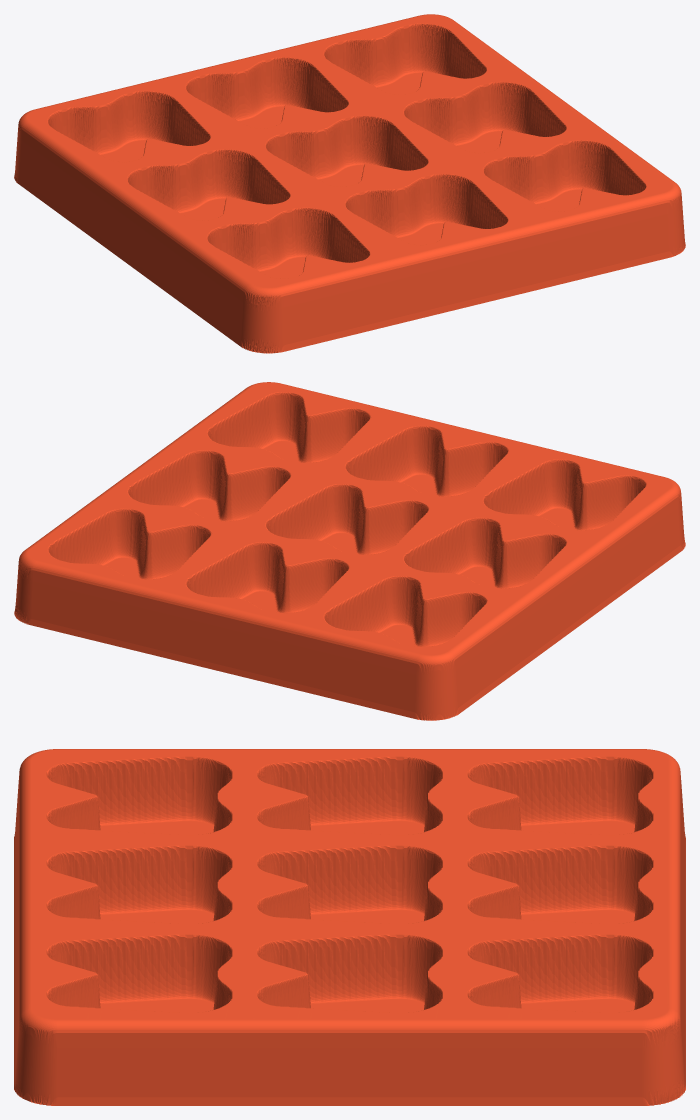
Rendered from mold.glb.
3 renders of one model, top to bottom at view 1: azimuth 30°, elevation 25°; view 2: azimuth 150°, elevation 25°; view 3: azimuth 270°, elevation 25°, orthographic. The views are drawn at different scales.
Parts seen in each view (by area): view 1: geometry_0; view 2: geometry_0; view 3: geometry_0.
Part boxes in pixels (x1,y1,x2,y2): geometry_0: (14, 14, 685, 353); geometry_0: (14, 382, 685, 720); geometry_0: (14, 749, 685, 1105).
Size of the model in its own units: 0.1402 by 0.0182 by 0.1402.
